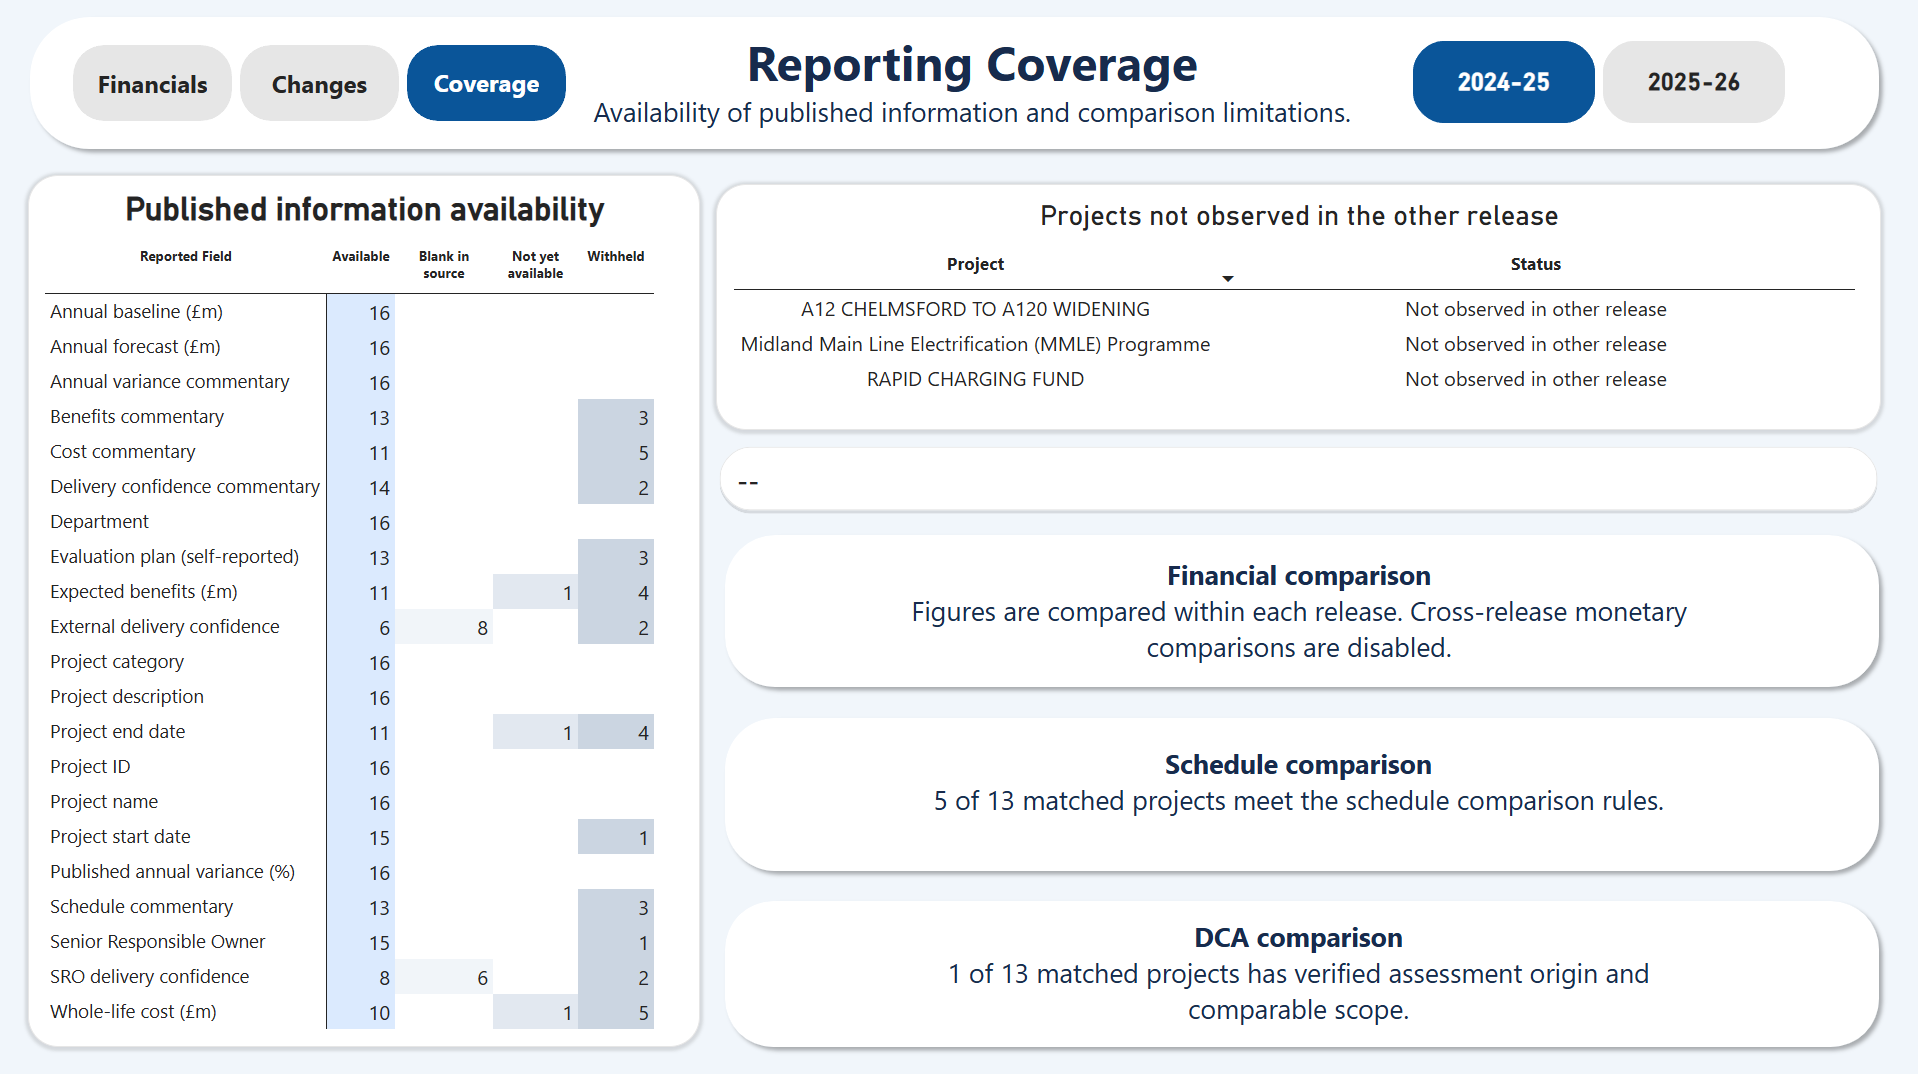

The page's visual inventory and layout, read from the dashboard file:
{"tool":"powerbi","page":{"name":"Coverage","canvas":[1920,1080],"ordinal":2},"visuals":[{"type":"shape","box":[718,894,1172,164],"z":0},{"type":"shape","box":[718,711,1172,171],"z":1000},{"type":"shape","box":[718,528,1172,170],"z":2000},{"type":"shape","box":[23.3,10,1866.7,150],"z":3000},{"type":"textbox","box":[570,31,808,107],"z":4000},{"type":"pivotTable","title":"Published information availability","fields":{"Columns":["FieldAvailability.Availability Label"],"Rows":["FieldAvailability.Field Label"],"Values":["Sum(FieldAvailability.observations_with_status)"]},"box":[30,177,672,872],"z":5000},{"type":"textbox","box":[912,558,778,124],"z":6000},{"type":"textbox","box":[903,747,795,86],"z":7000},{"type":"textbox","box":[903,920,795,131],"z":8000},{"type":"tableEx","title":"Projects not observed in the other release","fields":{"Values":["Unmatched.project_name_raw","Unmatched.neutral_label"]},"box":[718,186,1165,246],"z":9000},{"type":"cardVisual","fields":{"Data":["_Measures.Unmatched Note"]},"box":[718,445,1165,71],"z":10000},{"type":"pageNavigator","box":[75,46.7,495,76.7],"z":11000},{"type":"advancedSlicerVisual","title":"Reporting year","fields":{"Values":["DimRelease.release_year"]},"box":[1415,43.3,371.7,81.7],"z":12000}]}

Visuals, with their boxes in screenshot pixels (x1, y1, x2, y2), scaled from the page's 1920x1080 canvas onto the 1918x1074 screenshot:
shape: bbox=[717, 889, 1888, 1052]
shape: bbox=[717, 707, 1888, 877]
shape: bbox=[717, 525, 1888, 694]
shape: bbox=[23, 10, 1888, 159]
textbox: bbox=[569, 31, 1377, 137]
"Published information availability" pivotTable: bbox=[30, 176, 701, 1043]
textbox: bbox=[911, 555, 1688, 678]
textbox: bbox=[902, 743, 1696, 828]
textbox: bbox=[902, 915, 1696, 1045]
"Projects not observed in the other release" tableEx: bbox=[717, 185, 1881, 430]
cardVisual - _Measures.Unmatched Note: bbox=[717, 443, 1881, 513]
pageNavigator: bbox=[75, 46, 569, 123]
"Reporting year" advancedSlicerVisual: bbox=[1414, 43, 1785, 124]
